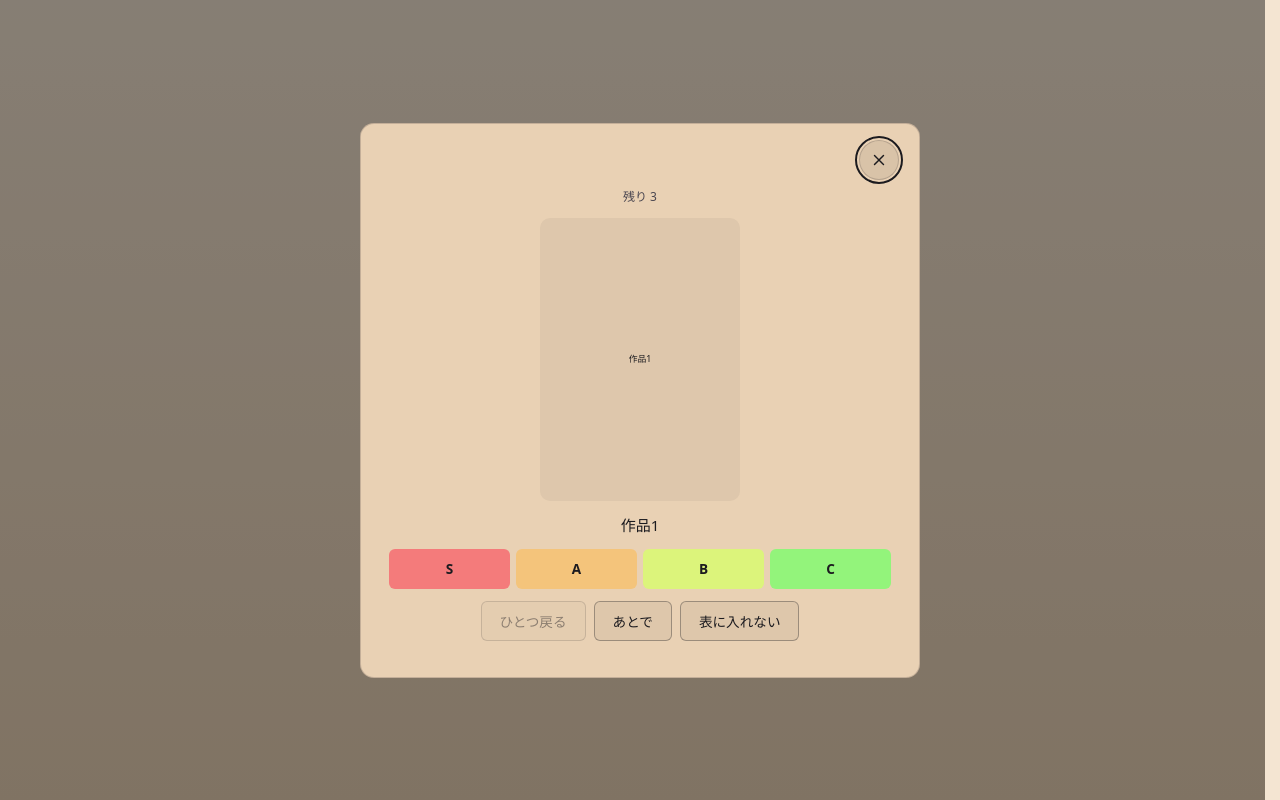
Test case: TierSort › 置いた作品に「ひとつ戻る」で戻り、段から外す
Expected: the button "ひとつ戻る" is disabled, [480,600,586,640]
Click the button "S": (450, 568) [389,548,510,588]
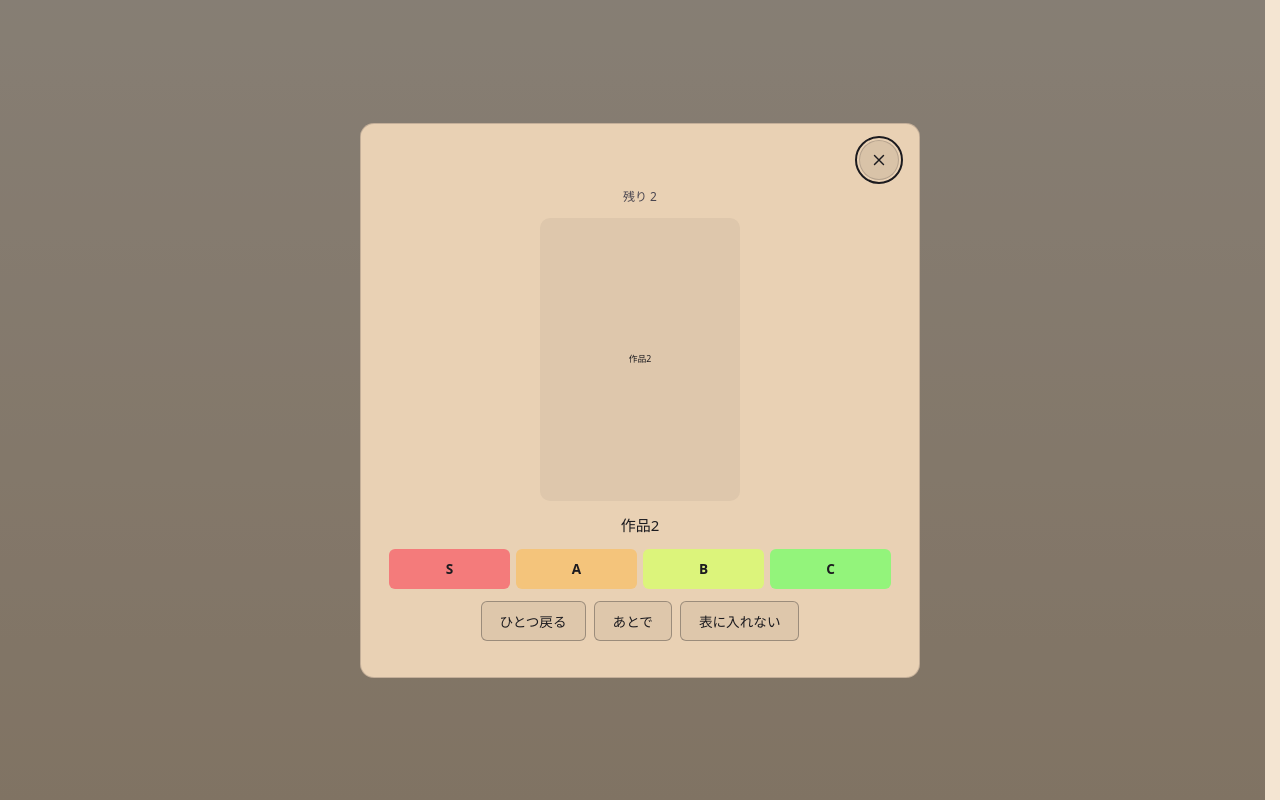
Expected: the 1st text "作品2" is shown, [629,353,651,365]
Click the button "ひとつ戻る": (533, 620) [480,600,586,640]
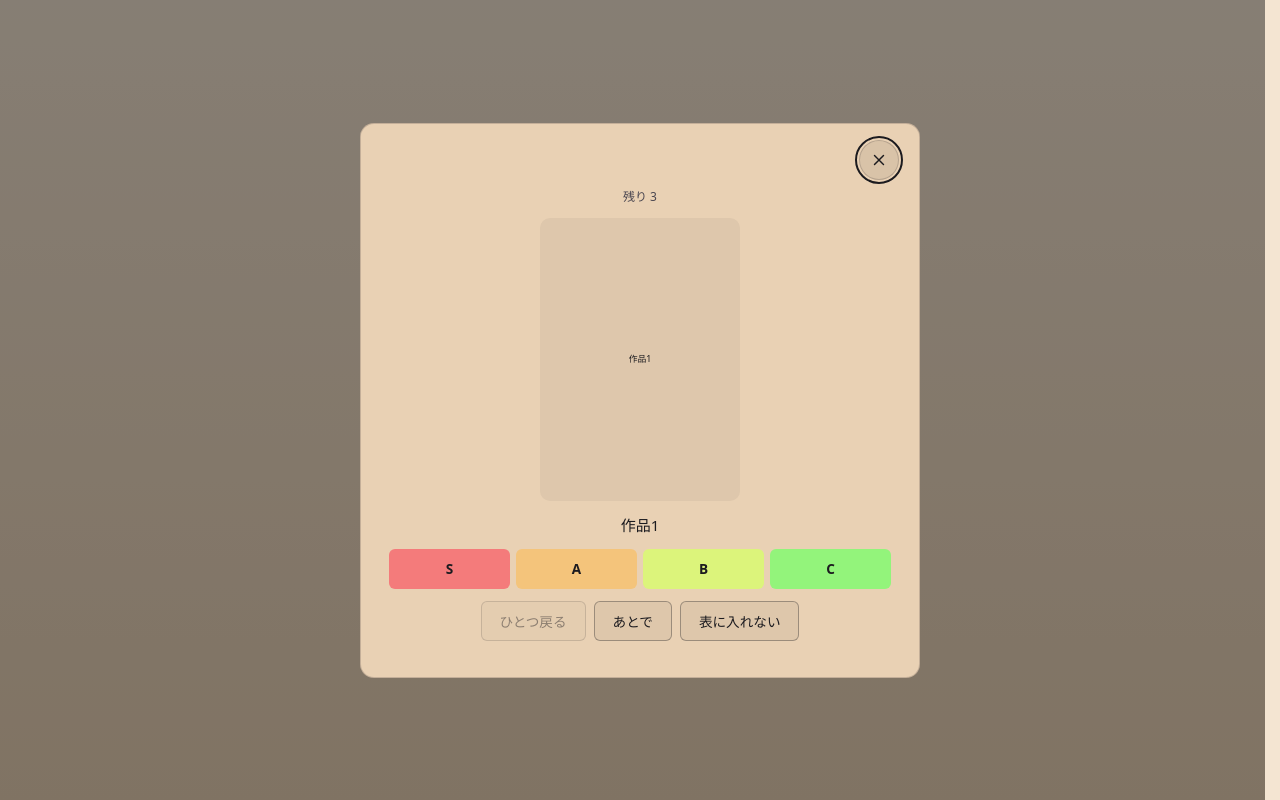
Expected: the 1st text "作品1" is shown, [629,353,651,365]
Expected: the text "残り 3" is shown, [623,188,657,206]
Expected: the button "ひとつ戻る" is disabled, [480,600,586,640]
